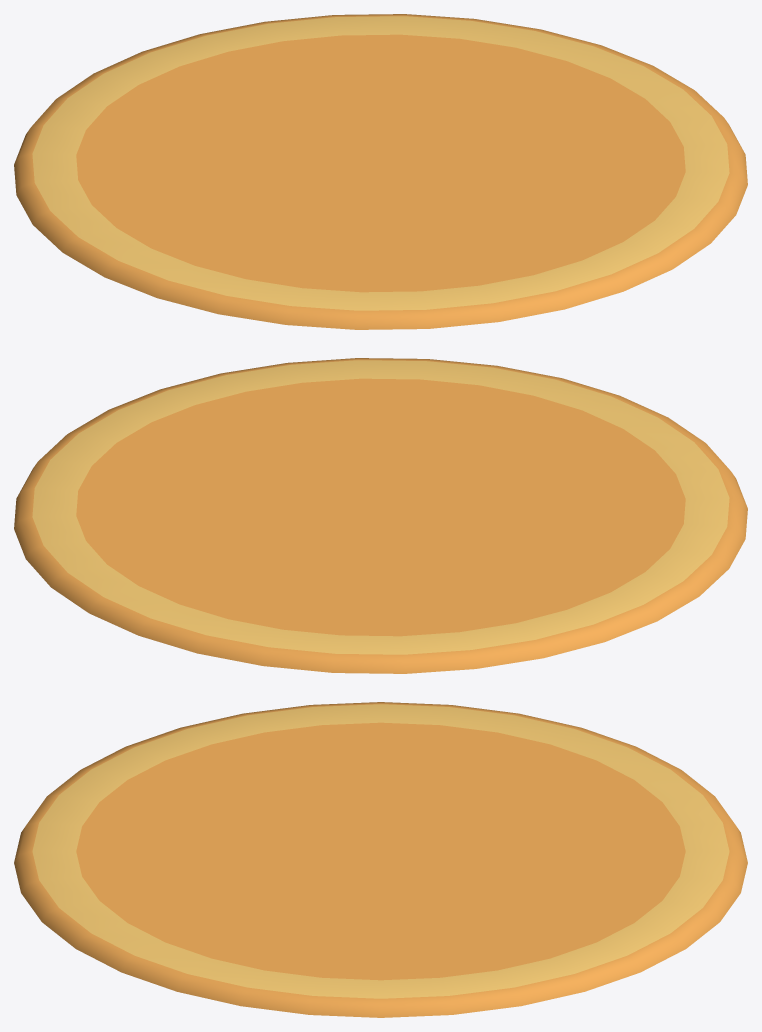
Rendered from carpet_round_large.obj.
The picture shows the model from 3 angles, top to bottom: view 1: azimuth 30°, elevation 25°; view 2: azimuth 150°, elevation 25°; view 3: azimuth 270°, elevation 25°; orthographic projection.
Parts seen in each view (by area): view 1: carpet_round_large; view 2: carpet_round_large; view 3: carpet_round_large.
Boxes of the visible parts, <box> form: carpet_round_large: <box>14,14,747,329</box>; carpet_round_large: <box>14,358,747,673</box>; carpet_round_large: <box>14,702,747,1017</box>.
Size of the model in its own units: 2.92 by 0.05 by 2.92.
Materials: 1 (1 with a texture image).
